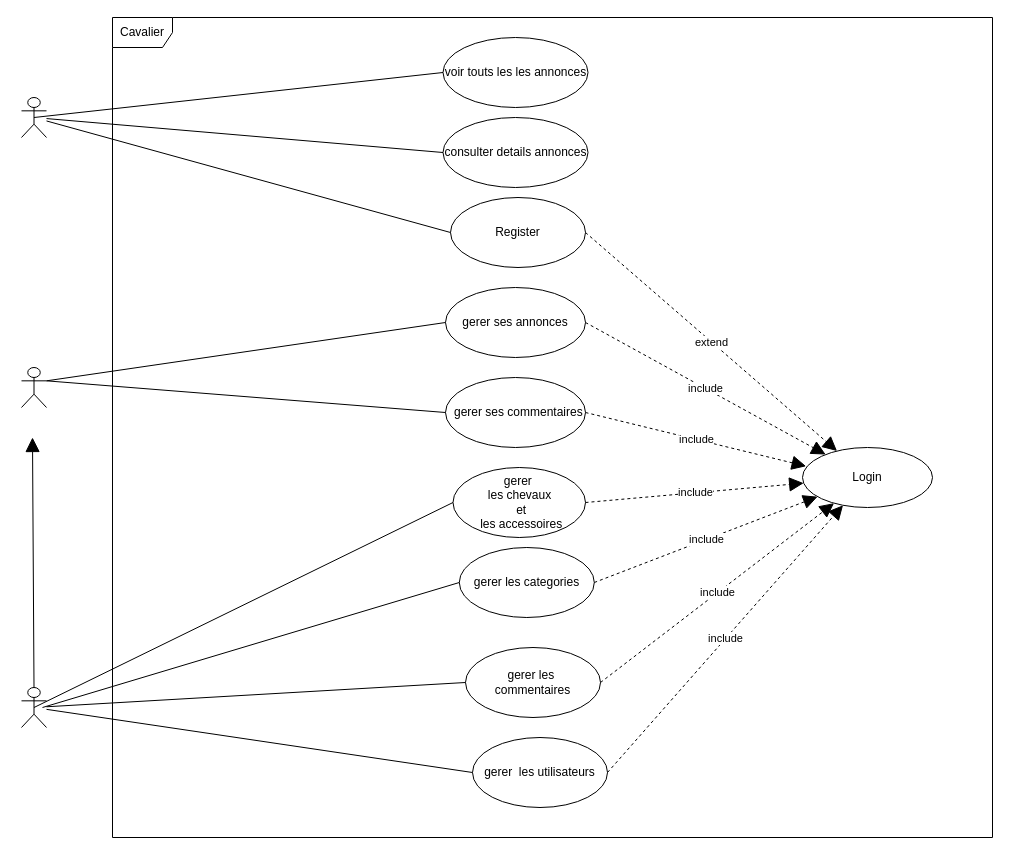
Some shapes in this 1010 by 855 pixel diagram are drawn without their labels. Each missing label, with the centre of its shape:
"admin" belongs at point (33, 707).
"user" belongs at point (33, 387).
"visitor" belongs at point (33, 117).
